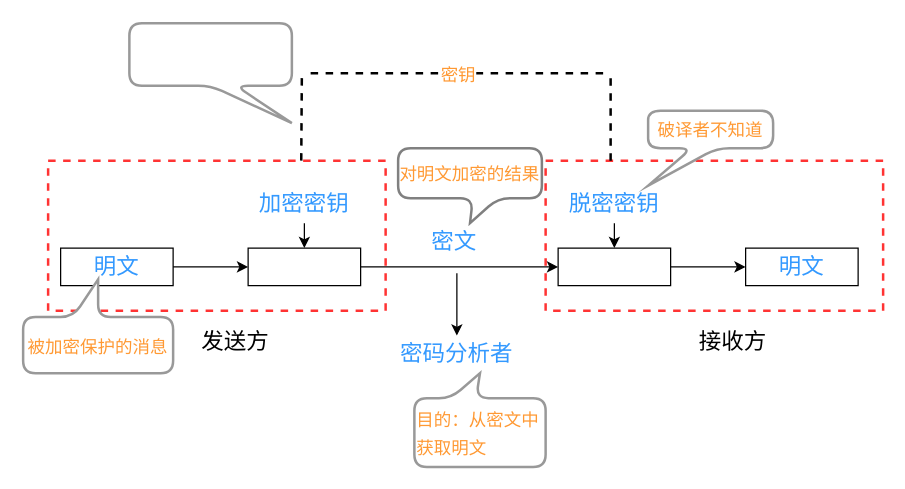
This 905x489 diagram has some shape labels left out. The shapes that lost their labels are listed below. From the top down, each one's centre as x and y in pixels, then its label:
At pixel 210 72: "该过程称为密钥分配".
At pixel 304 266: "加密算法".
At pixel 614 266: "脱密算法".
